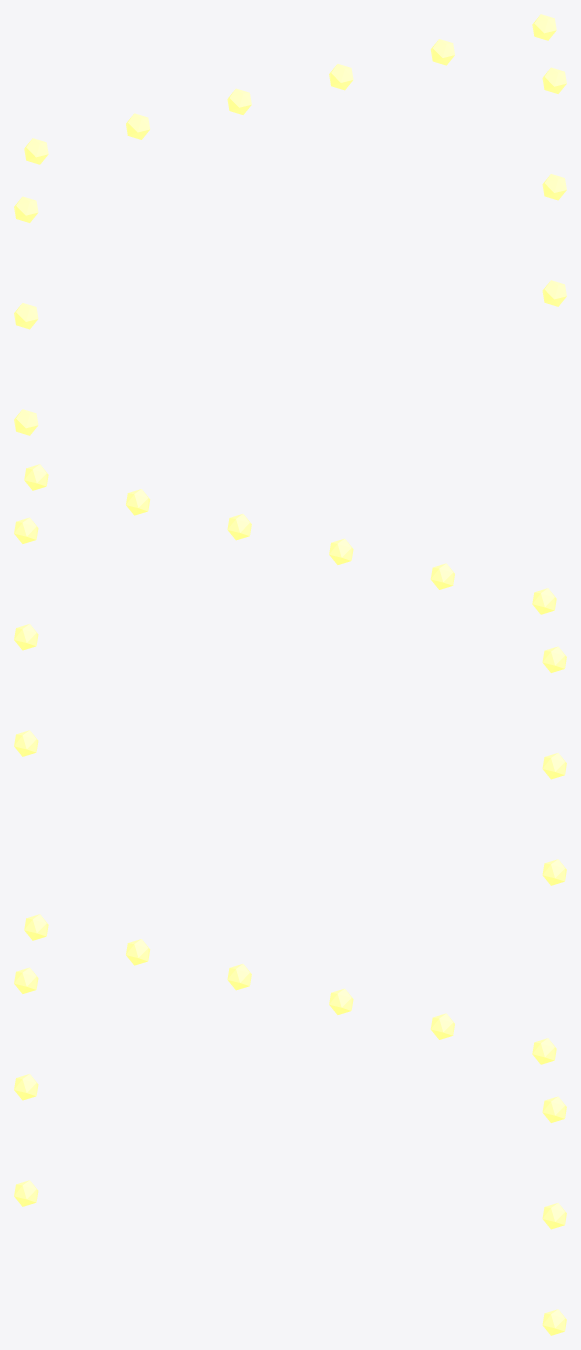
Rendered from bulbs_a.glb.
3 views of the same model, one above another, from view 1: azimuth 30°, elevation 25°; view 2: azimuth 150°, elevation 25°; view 3: azimuth 330°, elevation 25° (orthographic).
Visible parts, largest first — view 1: B0; view 2: B0; view 3: B0.
Boxes of the visible parts, left/top/right/bottom form: B0: left=14, top=14, right=566, bottom=435; B0: left=14, top=464, right=566, bottom=885; B0: left=14, top=914, right=566, bottom=1335.
Size of the model in its own units: 4.32 by 2.18 by 0.1616.
